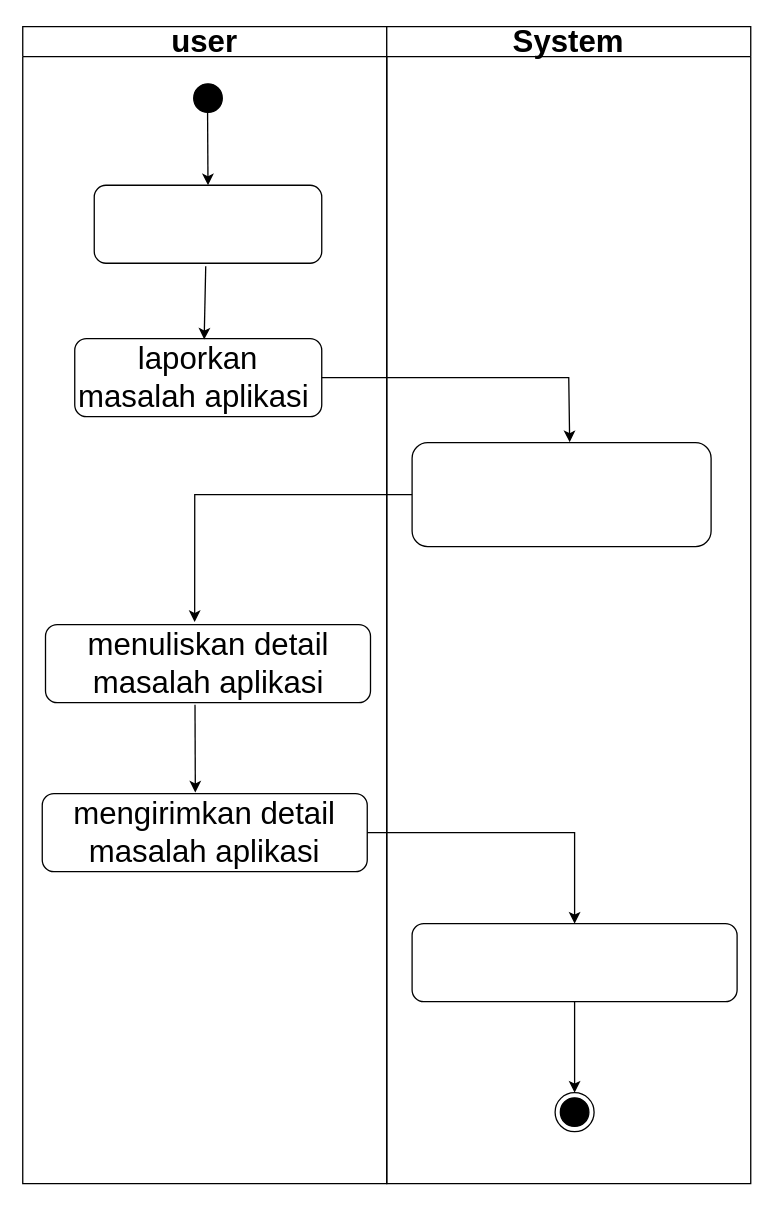
This 774x1206 diagram has some shape labels left out. Each missing label, with the centre of its shape:
"berpindah ke aplikasi email default" goes at pixel 561 494.
"Navigasi profile" goes at pixel 207 223.
"pesan kesalahan terkirim ke email developer" goes at pixel 574 962.
